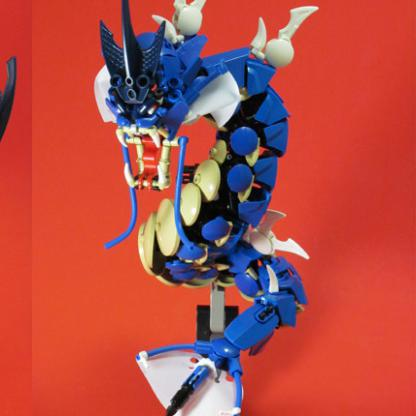Gyarados: (64, 1, 317, 416)
